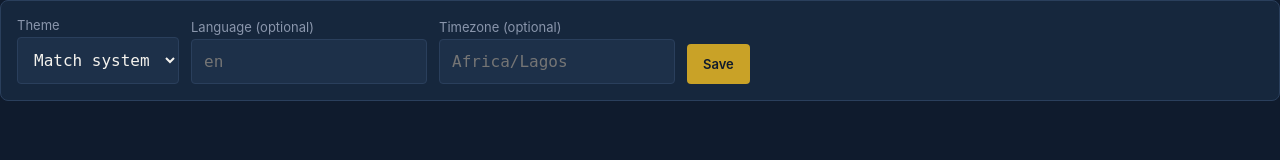
it: SettingsForm › shows a confirmation after a successful save
The width and height of the screenshot is (1280, 160).
Click the button "Save" at (718, 64), box [687,44,750,84]
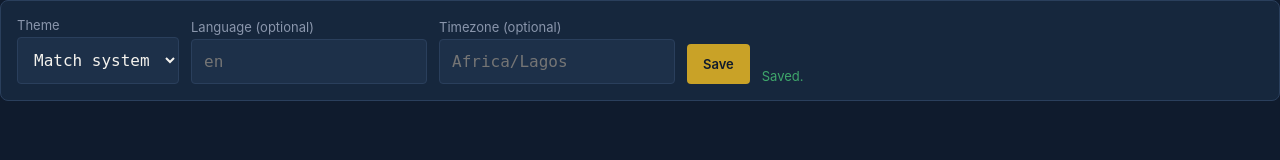
Check: the text "Saved." is shown, box [762,68,804,84]
